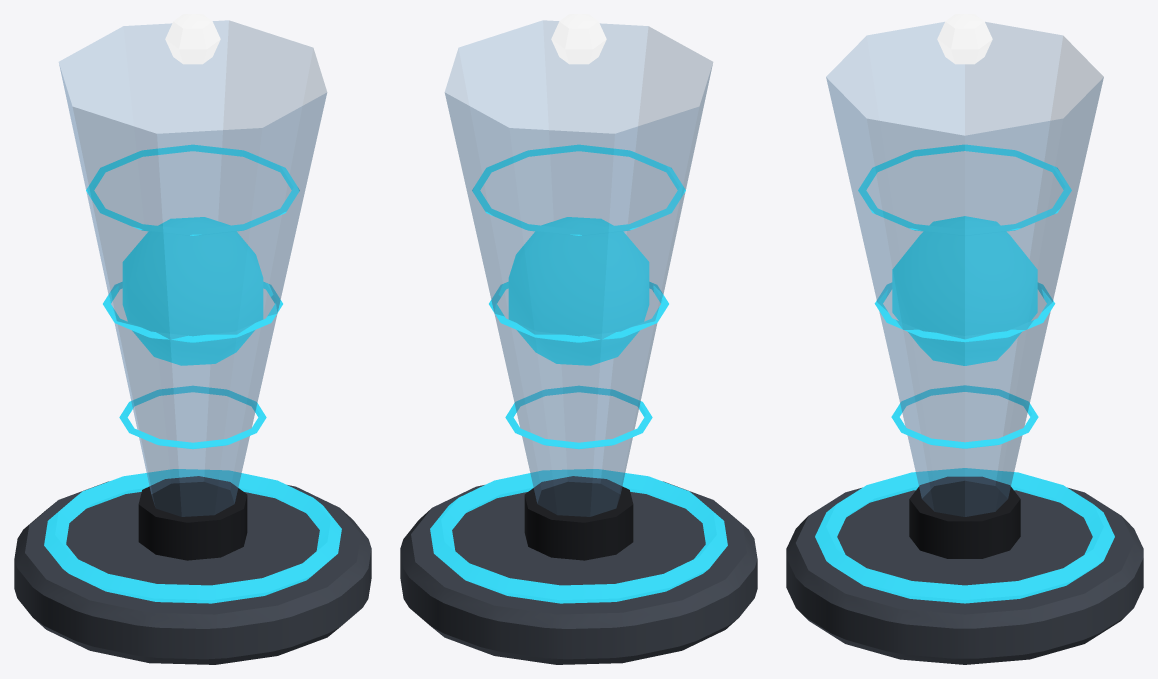
Rendered from lamp_holo_lamp.glb.
3 renders of one model, left to right at view 1: azimuth 30°, elevation 25°; view 2: azimuth 150°, elevation 25°; view 3: azimuth 270°, elevation 25°, orthographic.
Visible parts, largest first — view 1: lamp_holo_lamp; view 2: lamp_holo_lamp; view 3: lamp_holo_lamp.
Boxes of the visible parts, <box> form: lamp_holo_lamp: <box>14,14,371,664</box>; lamp_holo_lamp: <box>400,14,757,664</box>; lamp_holo_lamp: <box>786,14,1143,664</box>.
Size of the model in its own units: 0.2569 by 0.46 by 0.2569.
